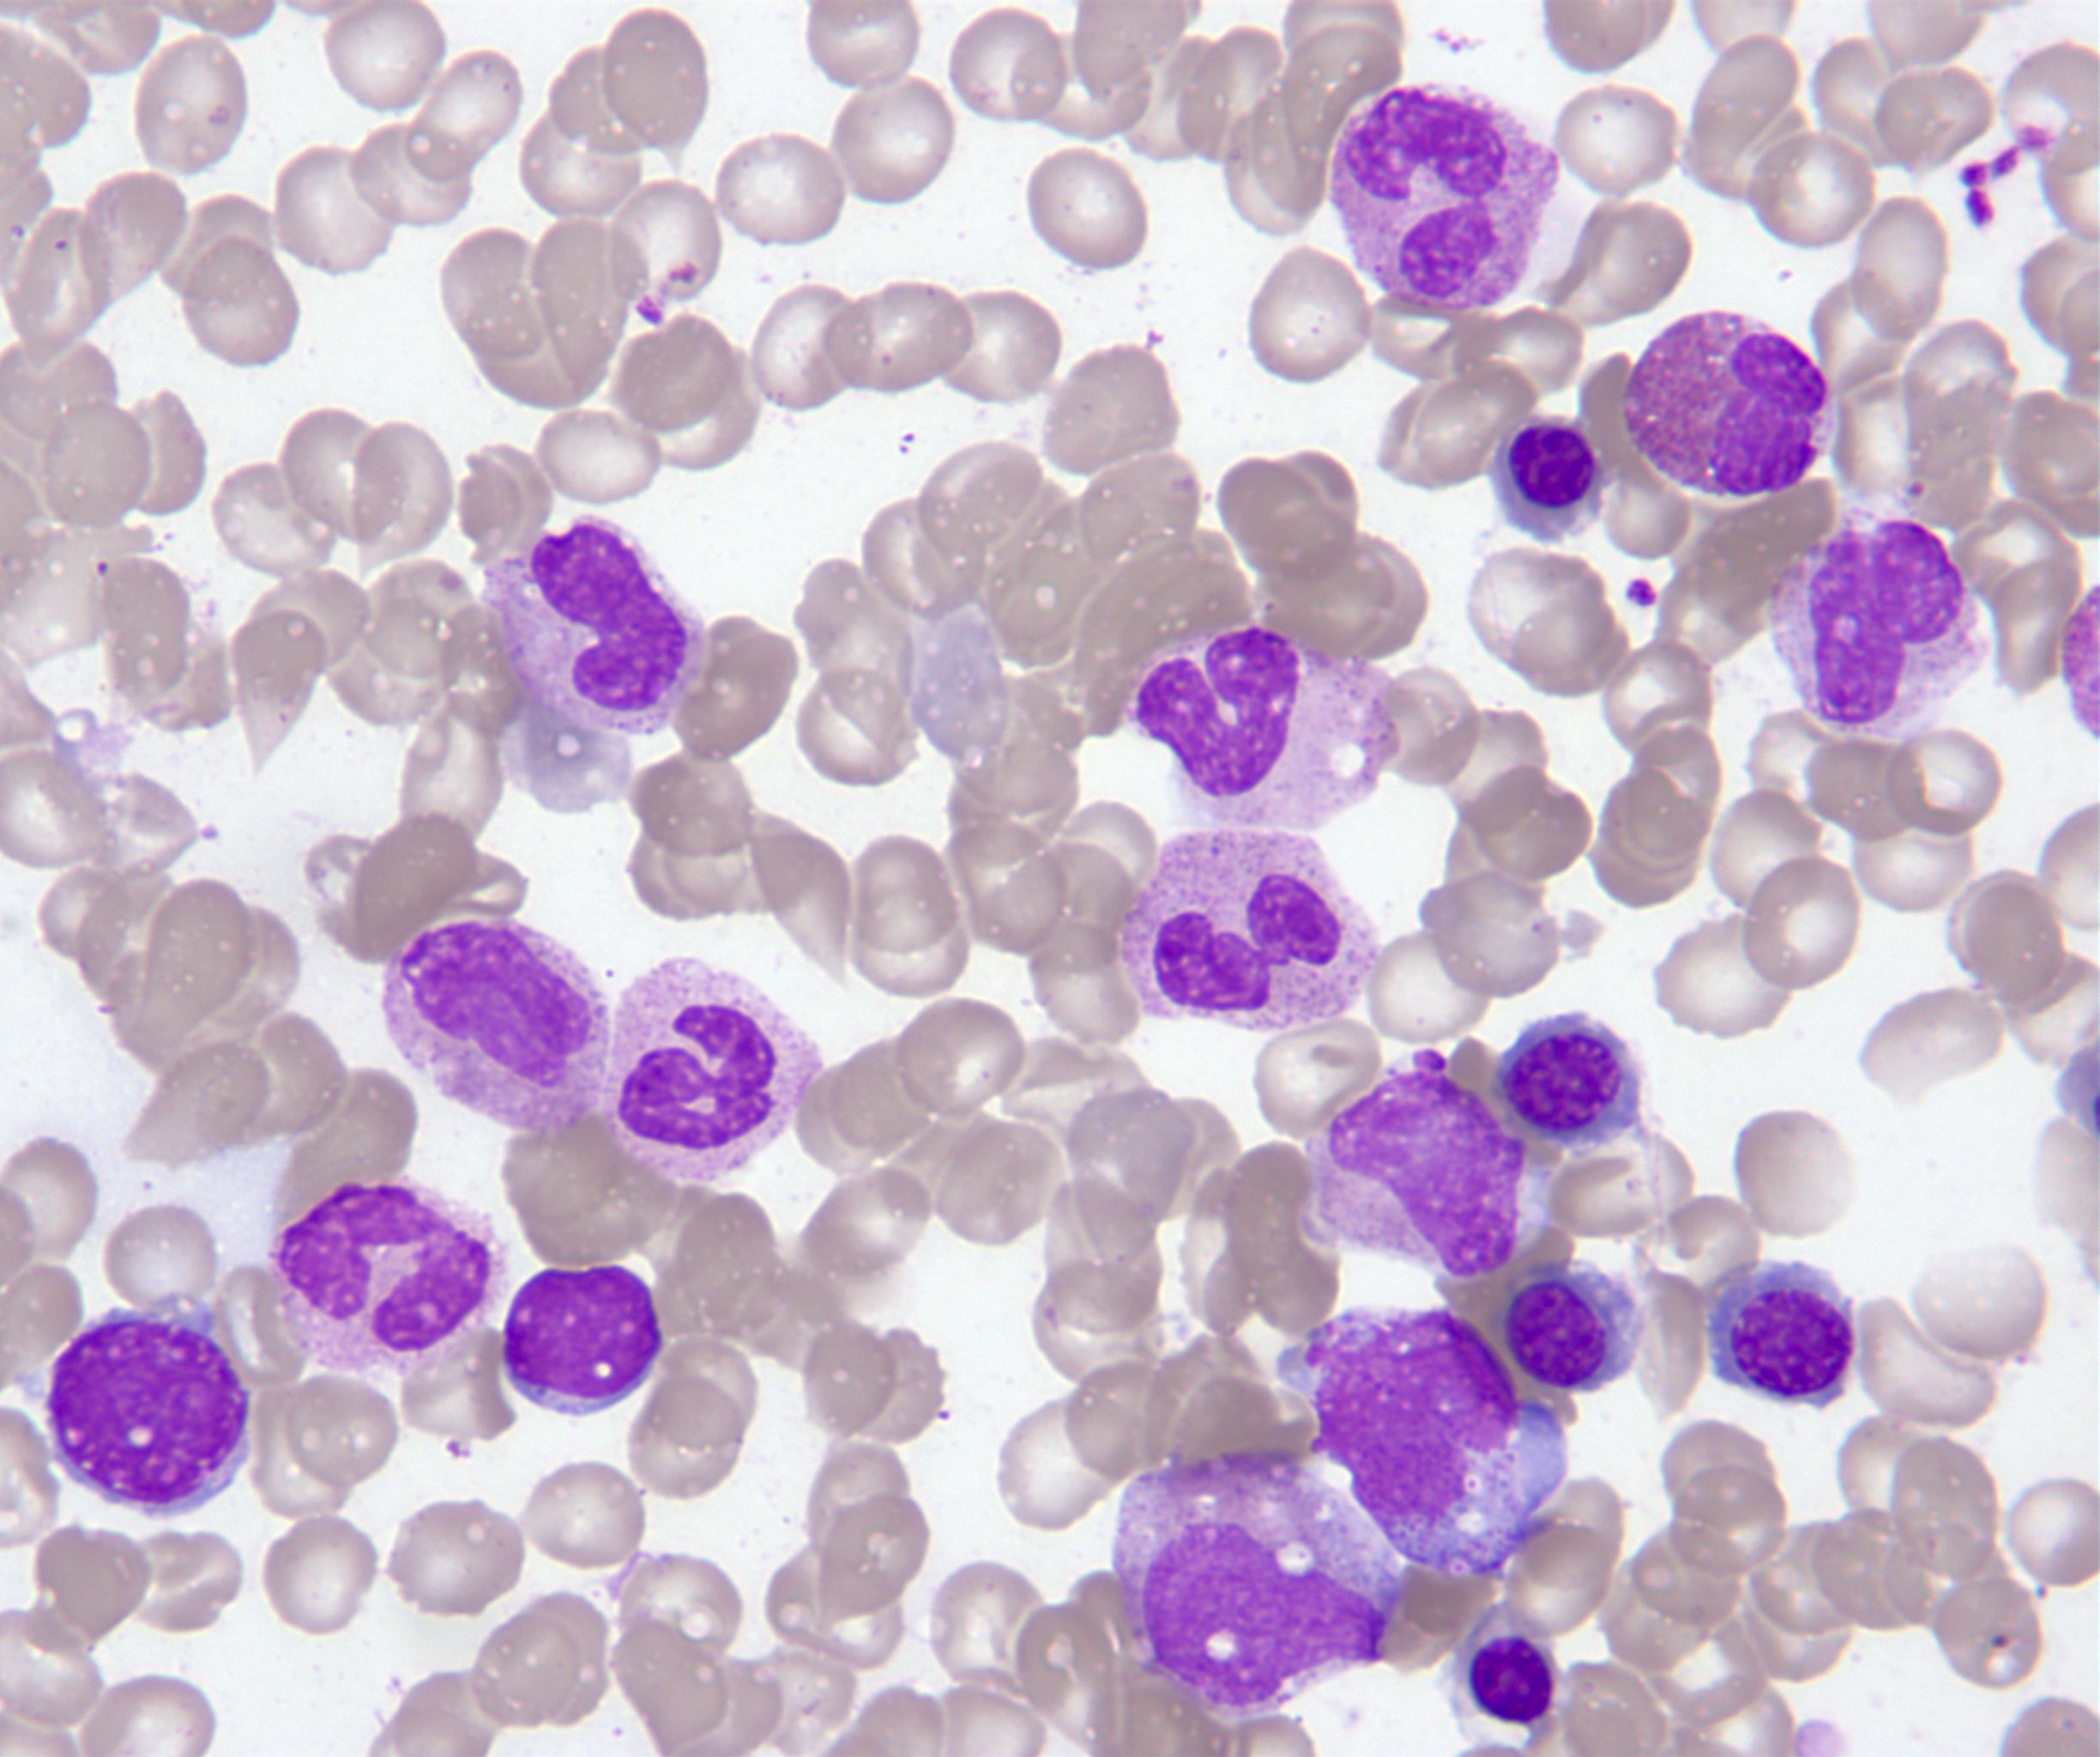2: (1305, 1293, 1575, 1588)
23: (42, 1295, 251, 1521)
24: (1697, 1251, 1861, 1415), (1490, 1255, 1657, 1403), (1490, 1007, 1648, 1152), (1484, 414, 1615, 546)
3: (1106, 1441, 1423, 1719), (1310, 1043, 1554, 1286)
32: (495, 1258, 672, 1424)
4: (473, 506, 713, 745), (377, 906, 614, 1138), (1767, 513, 1988, 747)
5: (1125, 619, 1406, 836), (256, 1164, 520, 1382)
6: (1319, 70, 1566, 326), (1113, 834, 1385, 1038), (607, 949, 832, 1195)
E4: (1615, 304, 1847, 508)
x: (1444, 1602, 1573, 1733)
